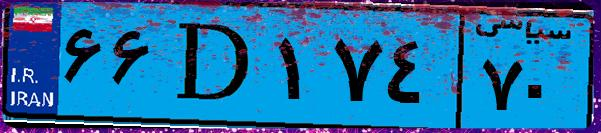0: (525, 38, 570, 115)
1: (270, 28, 330, 110)
4: (385, 28, 445, 110)
6: (57, 26, 110, 100), (110, 28, 158, 98)
7: (330, 28, 385, 110), (475, 38, 525, 113)
D: (158, 12, 270, 120)
